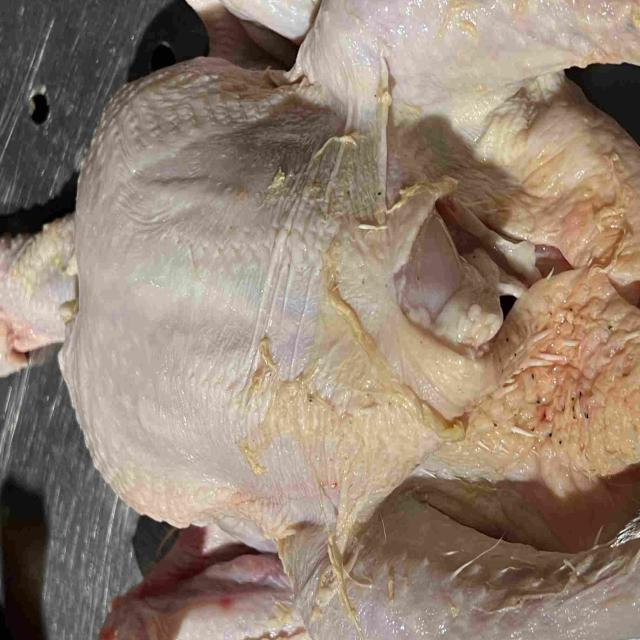breast: (69, 69, 501, 529)
leg: (283, 501, 640, 640), (301, 0, 640, 129)
neck: (0, 209, 78, 378)
wing: (88, 533, 305, 640), (177, 0, 319, 67)
